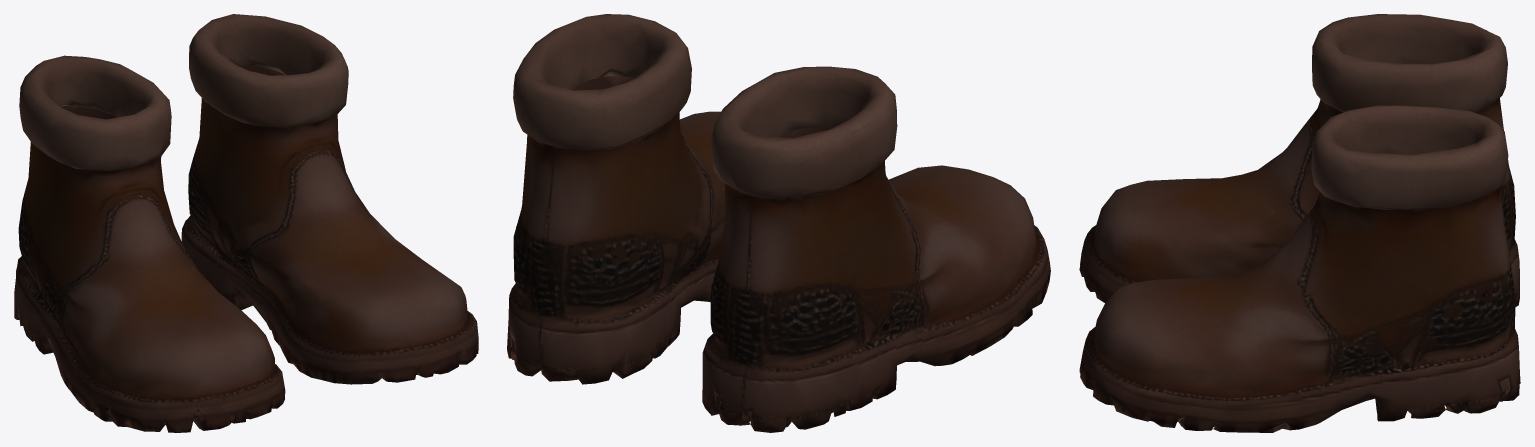
File: 3d_generated_mesh_shoes_processed.glb
3 views of the same model, side by side, from view 1: azimuth 30°, elevation 25°; view 2: azimuth 150°, elevation 25°; view 3: azimuth 270°, elevation 25° (orthographic). The views are drawn at different scales.
Parts seen in each view (by area): view 1: RBX_LC_shoes; view 2: RBX_LC_shoes; view 3: RBX_LC_shoes.
Part boxes in pixels (bbox=[...]): RBX_LC_shoes: bbox=[14, 14, 478, 432]; RBX_LC_shoes: bbox=[507, 14, 1050, 432]; RBX_LC_shoes: bbox=[1079, 14, 1520, 432].
Size of the model in its own units: 0.9983 by 0.6484 by 0.9934.
1 material, 1 textured.
